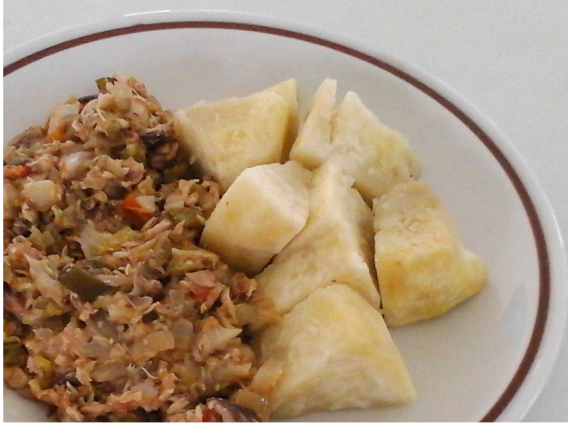carottes: (116, 194, 143, 219)
choux: (78, 311, 150, 369)
igname: (260, 93, 448, 398)
poivron: (65, 265, 98, 300)
